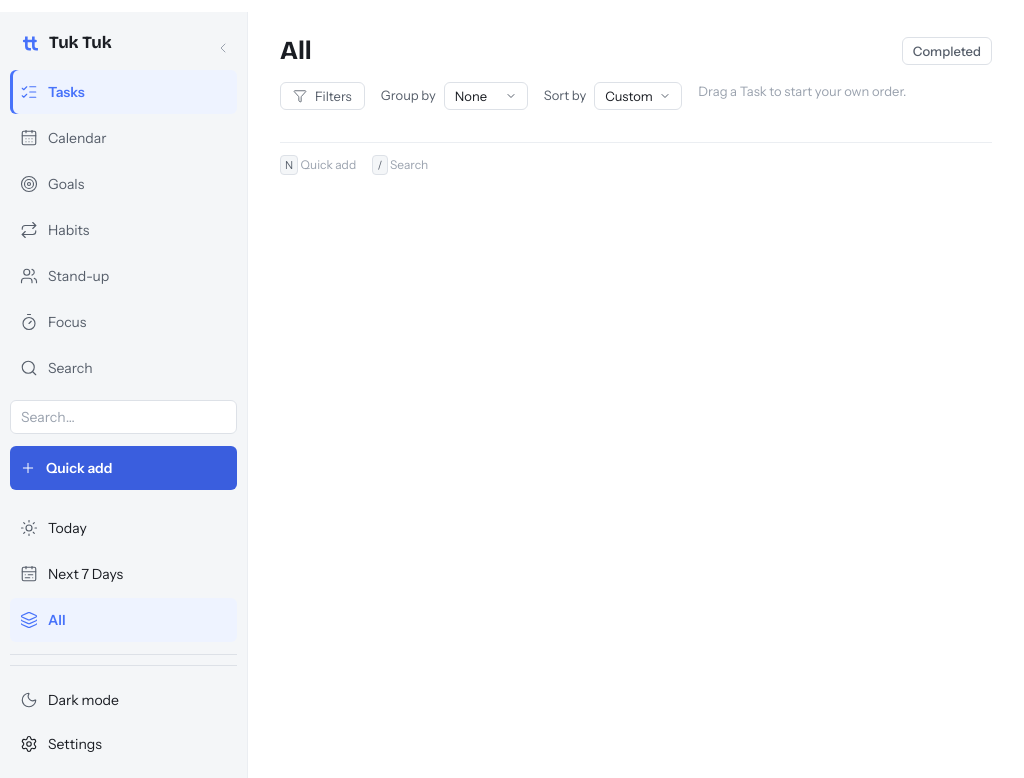
Test case: Google Calendar gate › shows only the credentials form, no account UI, when unconfigured
Click the link "Settings".
click(61, 744)  # box [20,734,102,753]
(page scrolled)
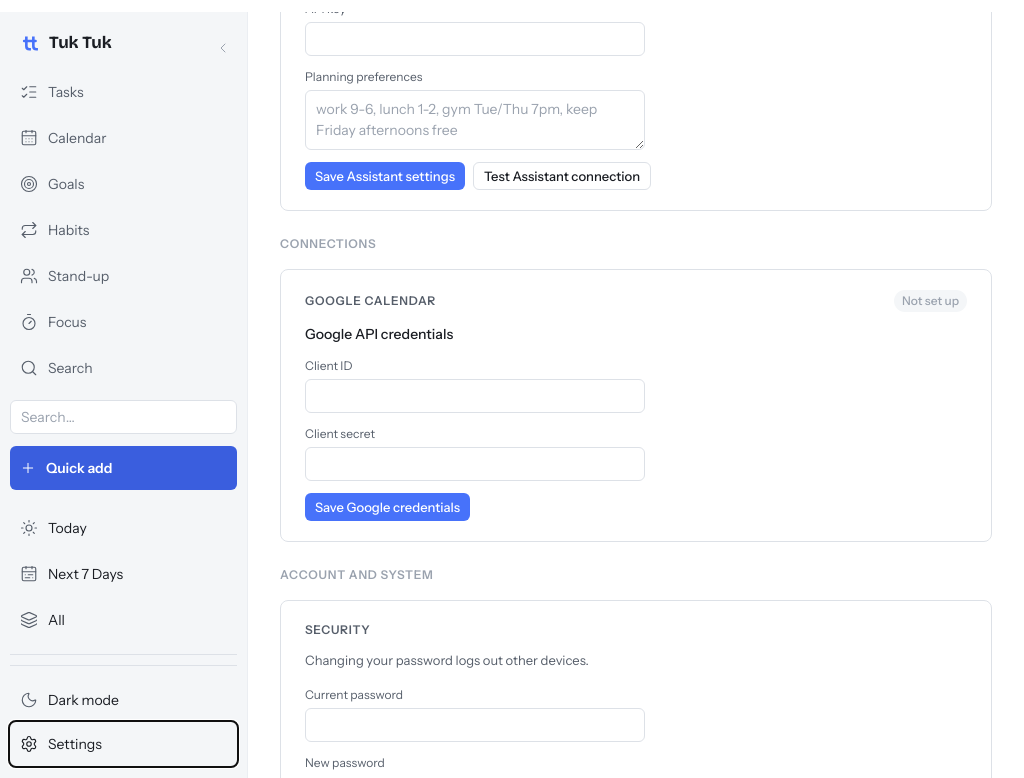
Result: the heading "Google API credentials" is shown at [305,325,453,343]
Result: the field labelled "Client ID" is shown at [305,379,645,413]
